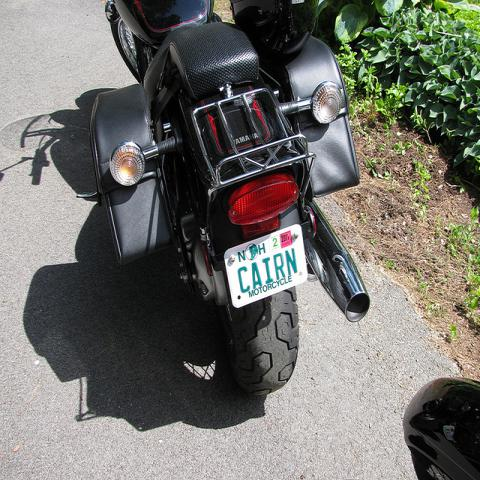motorcycle: (99, 6, 358, 392), (402, 375, 479, 479)
